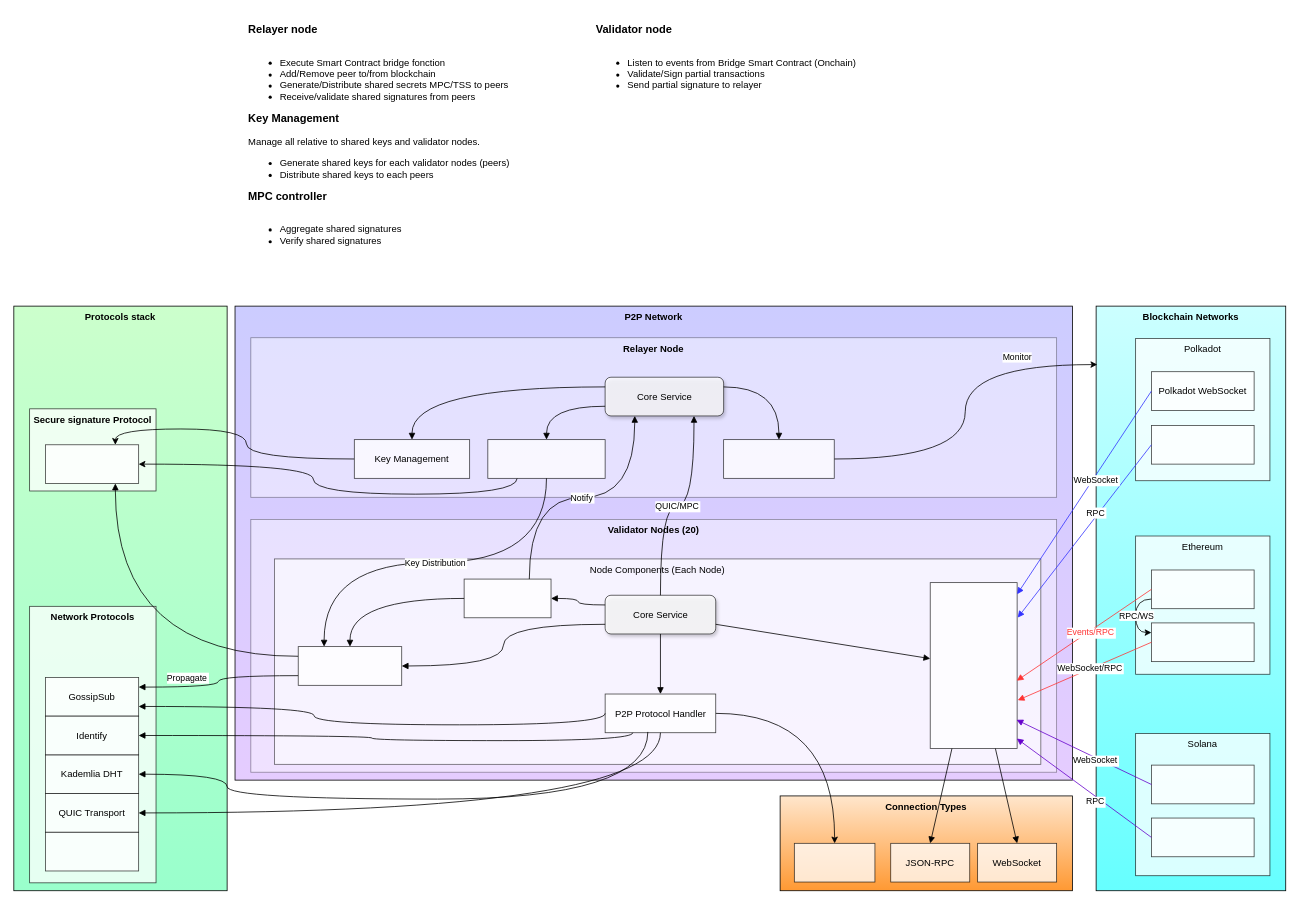
The diagram is 1300 pixels wide and 905 high, and some of its shapes have lost their labels. Here are the shapes that lost their labels. From the top down, the centre of each, then its label:
the point at 92,463: MPC TSS
the point at 546,458: MPC Controller
the point at 778,458: Blockchain Management
the point at 1202,444: Polkadot RPC
the point at 507,598: Event Listener
the point at 1202,589: GETH Node
the point at 1202,642: Infura
the point at 349,665: Signature Service
the point at 973,665: Chain Adapter
the point at 1202,784: Solana WebSocket
the point at 92,851: Request/Response
the point at 1202,837: Solana RPC
the point at 834,862: P2P Direct
